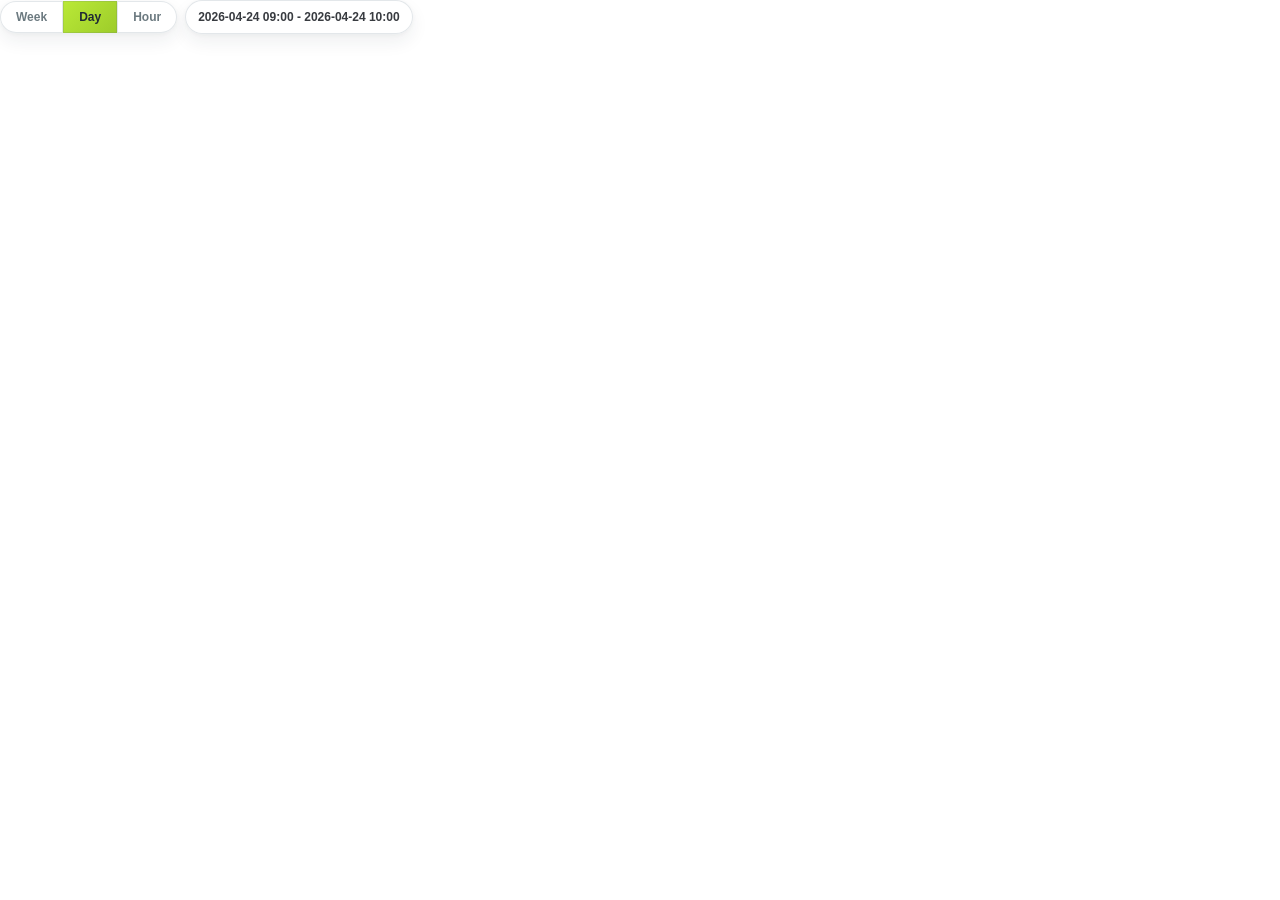
Test: MetricRangeSelector.vue › fills start and end from quick custom windows
Click the button with test id "metric-range-custom-button": coordinates (299, 17) [185,0,413,34]
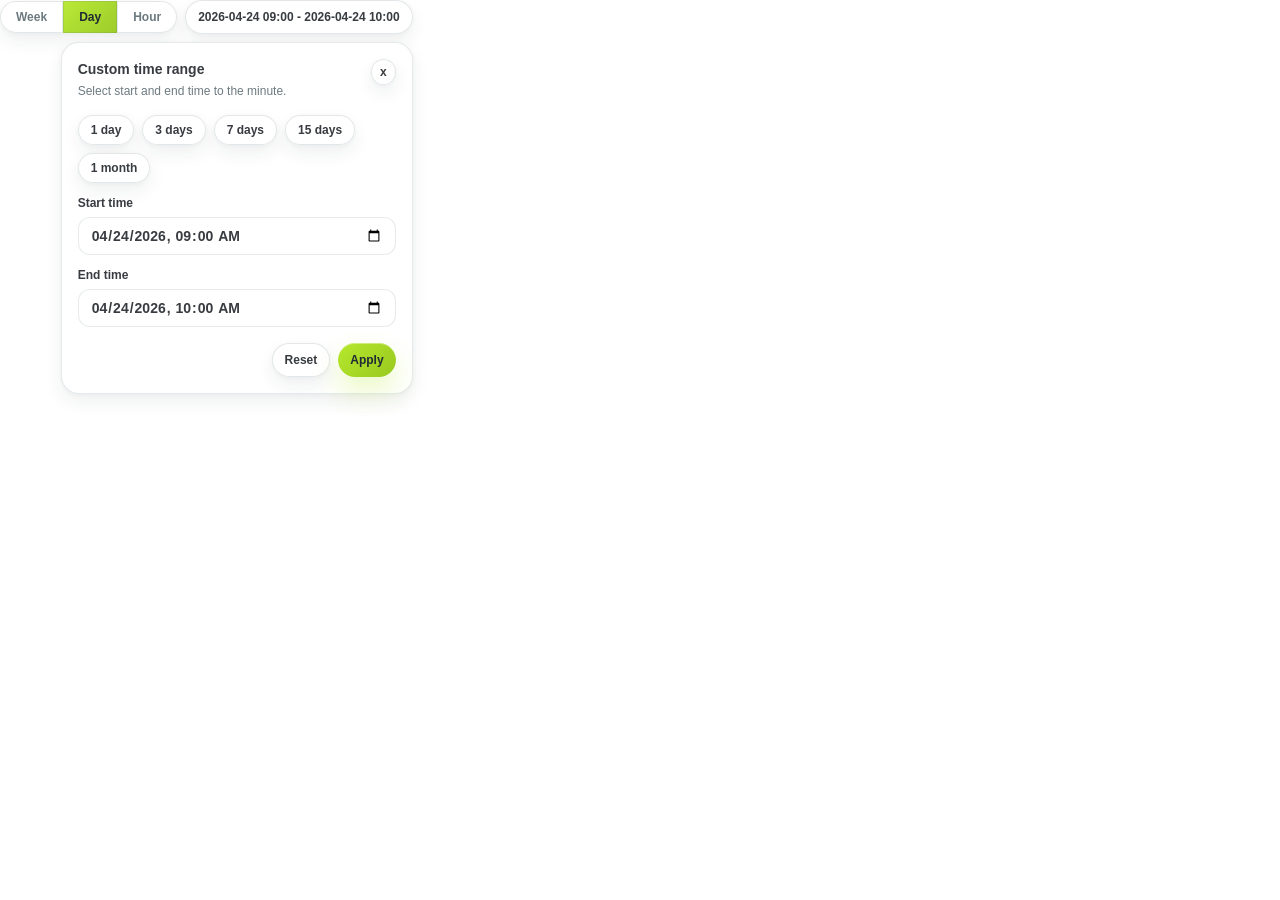
Click the button with test id "metric-range-quick-7d": coordinates (245, 130) [214,115,277,145]
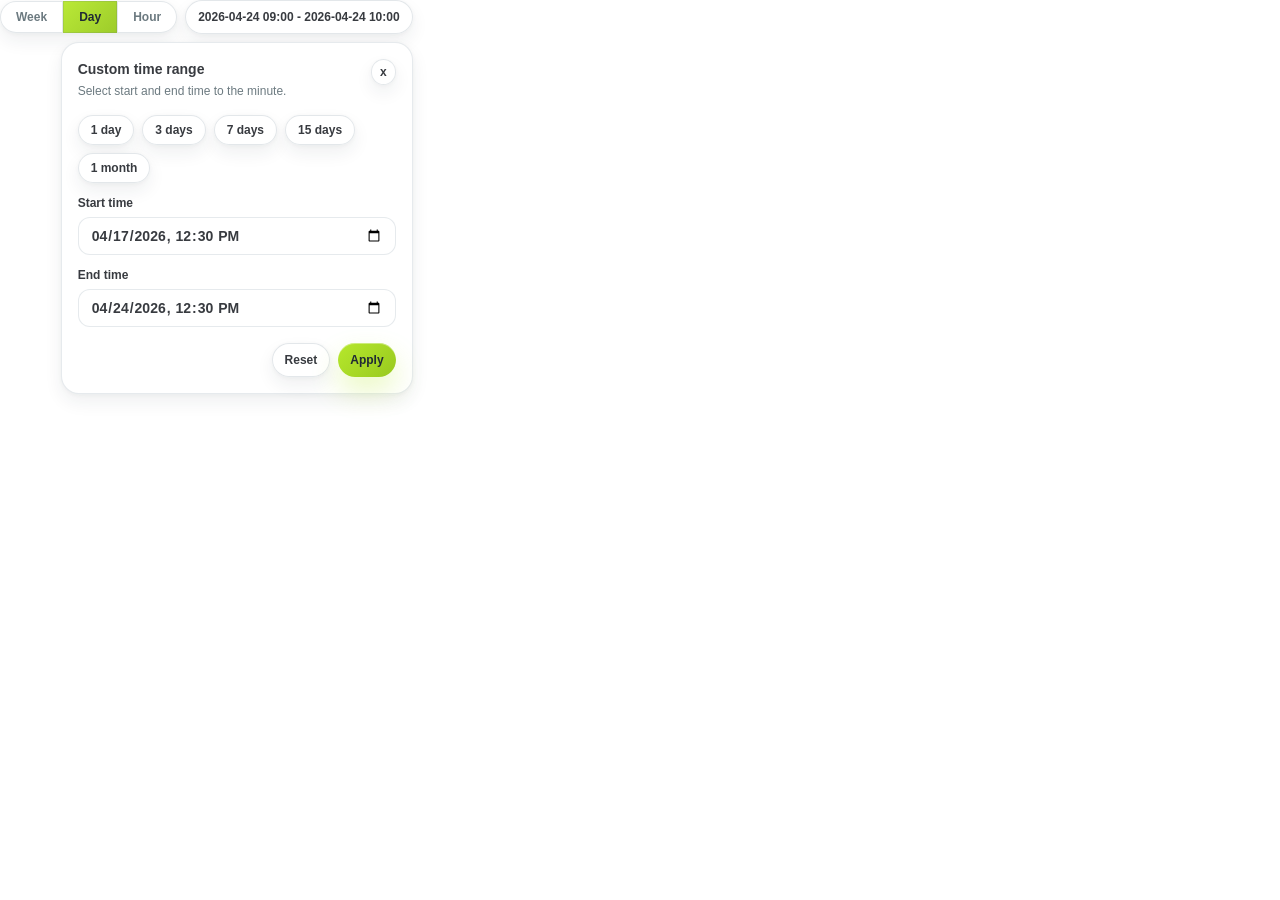
Result: the field with test id "metric-range-start" holds "2026-04-17T12:30" at [78,217,396,255]
Result: the field with test id "metric-range-end" holds "2026-04-24T12:30" at [78,289,396,327]
